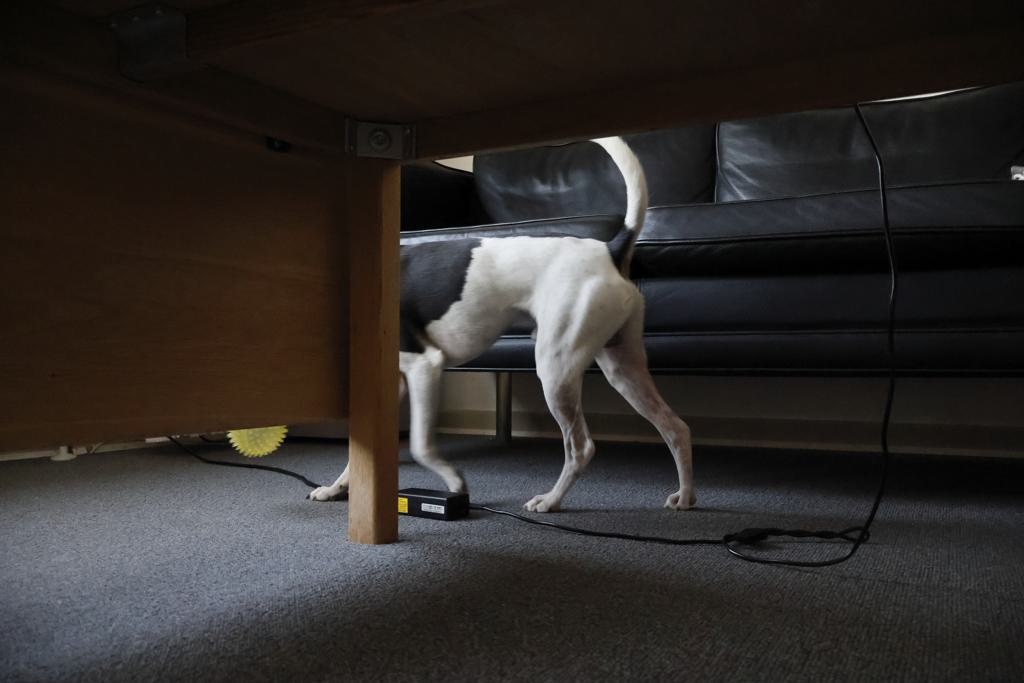Dog: (294, 104, 703, 534)
